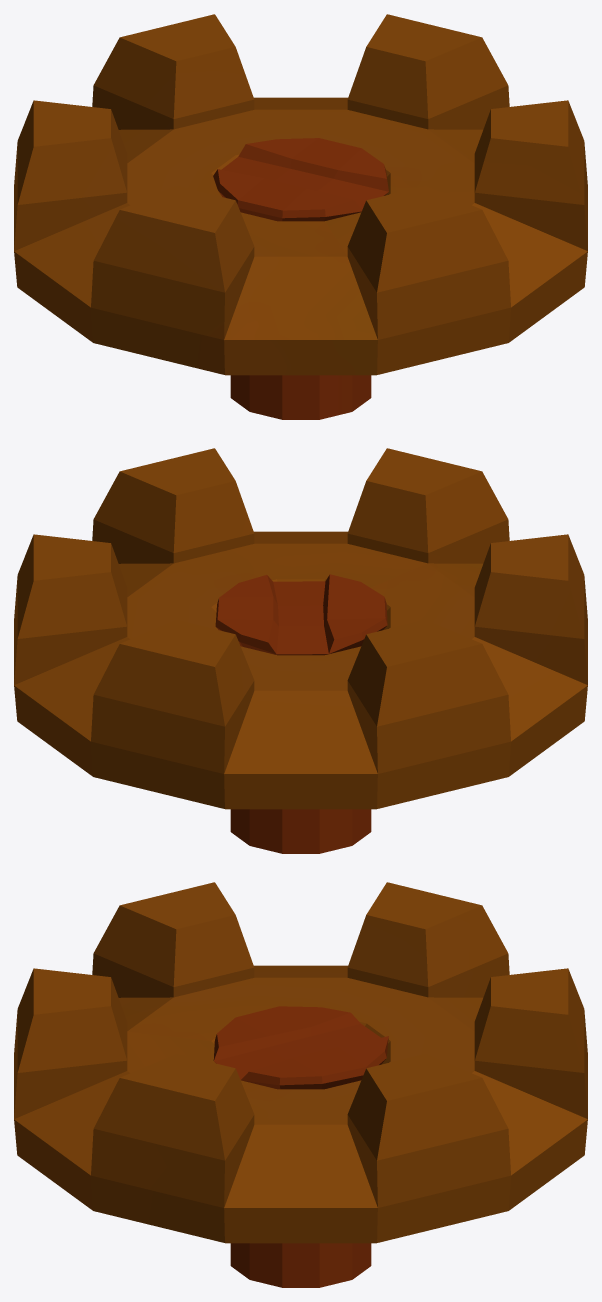
File: Gear Small_03.glb
The picture shows the model from 3 angles, top to bottom: view 1: azimuth 30°, elevation 25°; view 2: azimuth 150°, elevation 25°; view 3: azimuth 270°, elevation 25°; orthographic projection.
Parts seen in each view (by area): view 1: GearSmall_03; view 2: GearSmall_03; view 3: GearSmall_03.
Part boxes in pixels (x1,y1,x2,y2): GearSmall_03: (14, 14, 587, 419); GearSmall_03: (14, 448, 587, 853); GearSmall_03: (14, 882, 587, 1287).
Size of what is drawn, in the model's own units: 0.5975 by 0.3062 by 0.5975.
Materials: 1 (1 with a texture image).
